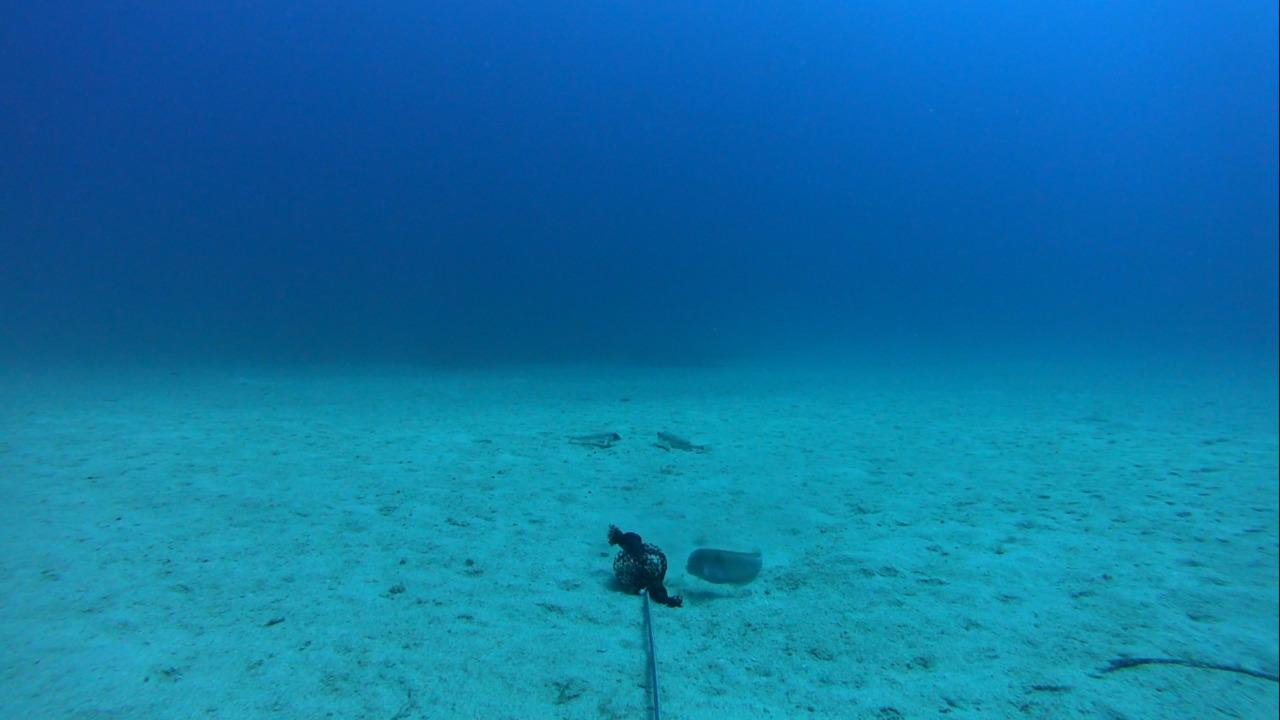dactylopterus: (645, 423, 723, 463), (558, 417, 628, 455)
raor: (681, 541, 769, 589)
